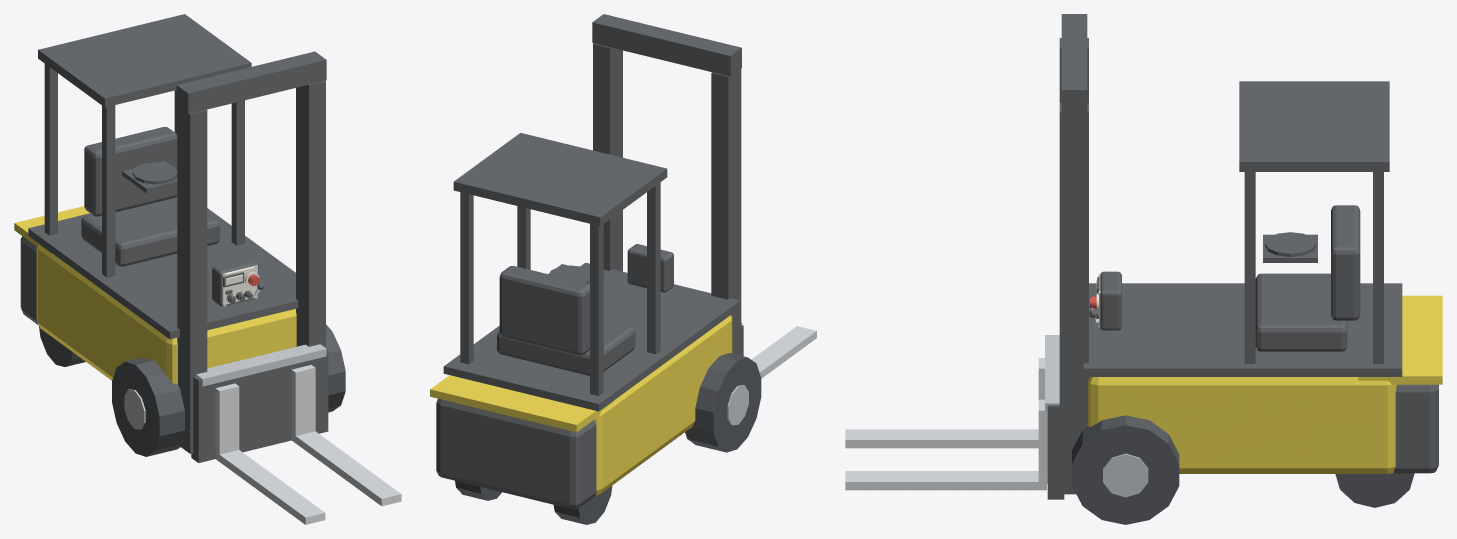
File: FactoryForklift.glb
3 renders of one model, left to right at view 1: azimuth 30°, elevation 25°; view 2: azimuth 150°, elevation 25°; view 3: azimuth 270°, elevation 25°, orthographic. The views are drawn at different scales.
Parts seen in each view (by area): view 1: machine-shop-and-factory-hall-counterbalance-forklift, mast-liftsteel, mast-liftcharcoal, wheel-roll-frontrubber, mast-liftcast, wheel-roll-rearrubber, wheel-roll-frontcast; view 2: machine-shop-and-factory-hall-counterbalance-forklift, wheel-roll-frontrubber, wheel-roll-rearrubber, mast-liftsteel, wheel-roll-frontcast; view 3: machine-shop-and-factory-hall-counterbalance-forklift, mast-liftsteel, wheel-roll-frontrubber, wheel-roll-rearrubber, wheel-roll-frontcast, mast-liftcharcoal, mast-liftcast.
Boxes of the visible parts, <box> form: machine-shop-and-factory-hall-counterbalance-forklift: <box>14,14,326,453</box>; mast-liftsteel: <box>215,365,401,524</box>; mast-liftcharcoal: <box>191,345,328,462</box>; wheel-roll-frontrubber: <box>112,324,345,456</box>; mast-liftcast: <box>196,344,326,386</box>; wheel-roll-rearrubber: <box>39,326,85,366</box>; wheel-roll-frontcast: <box>124,389,145,429</box>; machine-shop-and-factory-hall-counterbalance-forklift: <box>430,14,741,509</box>; wheel-roll-frontrubber: <box>685,353,761,452</box>; wheel-roll-rearrubber: <box>455,480,612,524</box>; mast-liftsteel: <box>751,326,816,378</box>; wheel-roll-frontcast: <box>727,385,748,425</box>; machine-shop-and-factory-hall-counterbalance-forklift: <box>1059,14,1442,494</box>; mast-liftsteel: <box>845,358,1047,490</box>; wheel-roll-frontrubber: <box>1072,415,1179,524</box>; wheel-roll-rearrubber: <box>1335,473,1414,507</box>; wheel-roll-frontcast: <box>1103,453,1148,497</box>; mast-liftcharcoal: <box>1047,405,1064,499</box>; mast-liftcast: <box>1045,335,1059,411</box>.
Size of the model in its own units: 1.16 by 2.2 by 2.82.
